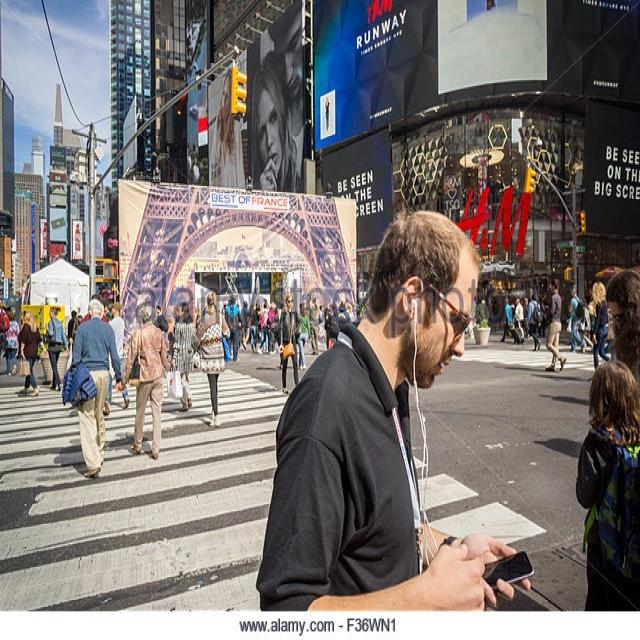body: (254, 208, 538, 612), (572, 358, 639, 639), (61, 296, 125, 481), (248, 4, 307, 196), (115, 302, 170, 461), (188, 289, 231, 428), (209, 73, 246, 192), (604, 266, 640, 387), (169, 301, 197, 414), (106, 299, 131, 411), (16, 311, 47, 398), (277, 292, 303, 395), (44, 304, 70, 392), (544, 276, 567, 375), (316, 295, 351, 355), (591, 281, 612, 374), (566, 282, 587, 354), (223, 293, 245, 361), (294, 299, 312, 372), (2, 309, 21, 378), (498, 295, 521, 346), (525, 292, 544, 352), (185, 142, 209, 186), (307, 294, 324, 356), (80, 292, 109, 324), (246, 301, 263, 355), (277, 300, 290, 370), (564, 302, 583, 348), (256, 301, 270, 355), (0, 296, 11, 364), (265, 301, 278, 355), (67, 309, 82, 355), (238, 299, 251, 352), (578, 296, 592, 345), (512, 298, 526, 345), (535, 291, 546, 339), (322, 94, 333, 134), (155, 305, 170, 334), (526, 296, 534, 341), (509, 300, 516, 340), (522, 296, 531, 321)
